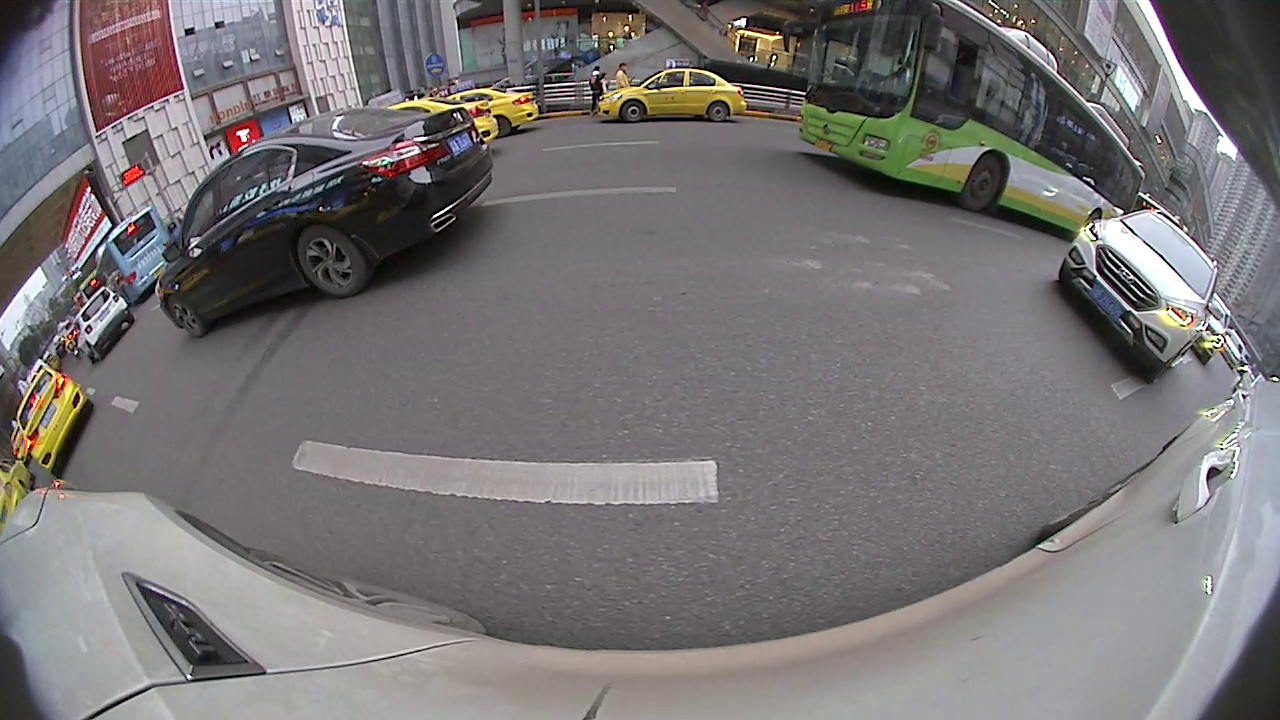bus: (800, 1, 1147, 240), (92, 203, 180, 311)
car: (157, 101, 496, 347), (1053, 209, 1221, 382), (590, 67, 753, 131), (12, 368, 89, 474), (69, 283, 134, 367), (440, 87, 541, 139)
front: (961, 154, 1005, 211), (164, 294, 207, 341), (618, 99, 646, 124)
rear: (295, 226, 368, 300), (706, 99, 731, 125)
